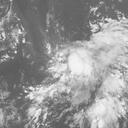cyclone: (54, 40, 103, 97)
